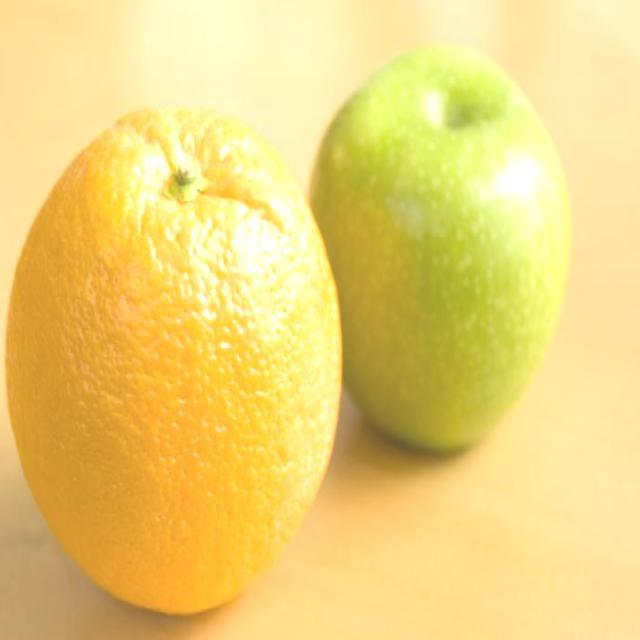apple: (306, 44, 574, 494)
orange: (0, 101, 344, 614)
